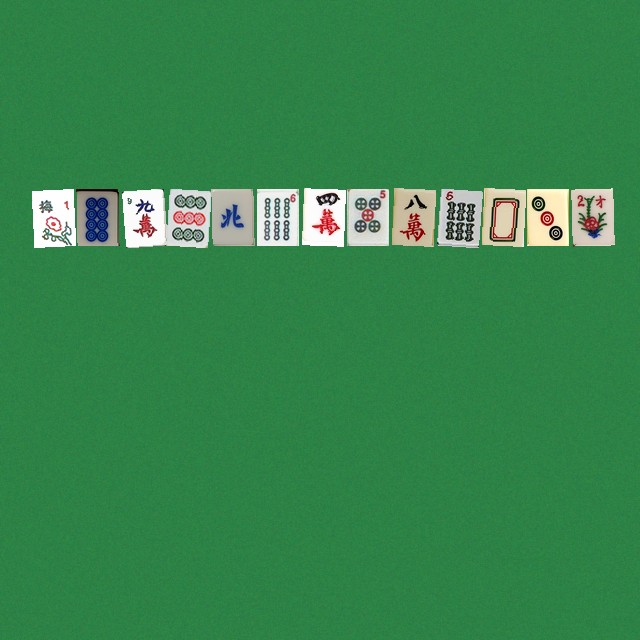tile: (31, 188, 73, 245), (76, 188, 118, 245), (121, 188, 163, 245), (166, 188, 208, 245), (211, 188, 253, 245), (256, 188, 298, 245), (301, 188, 343, 245), (346, 188, 388, 245), (391, 188, 433, 245), (436, 188, 478, 245), (481, 188, 523, 245), (526, 188, 568, 245), (571, 188, 613, 245)
